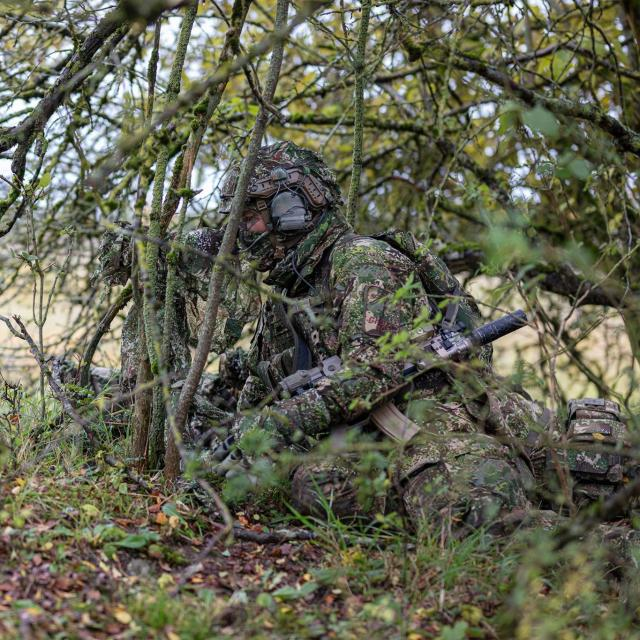Human: (185, 140, 566, 547)
